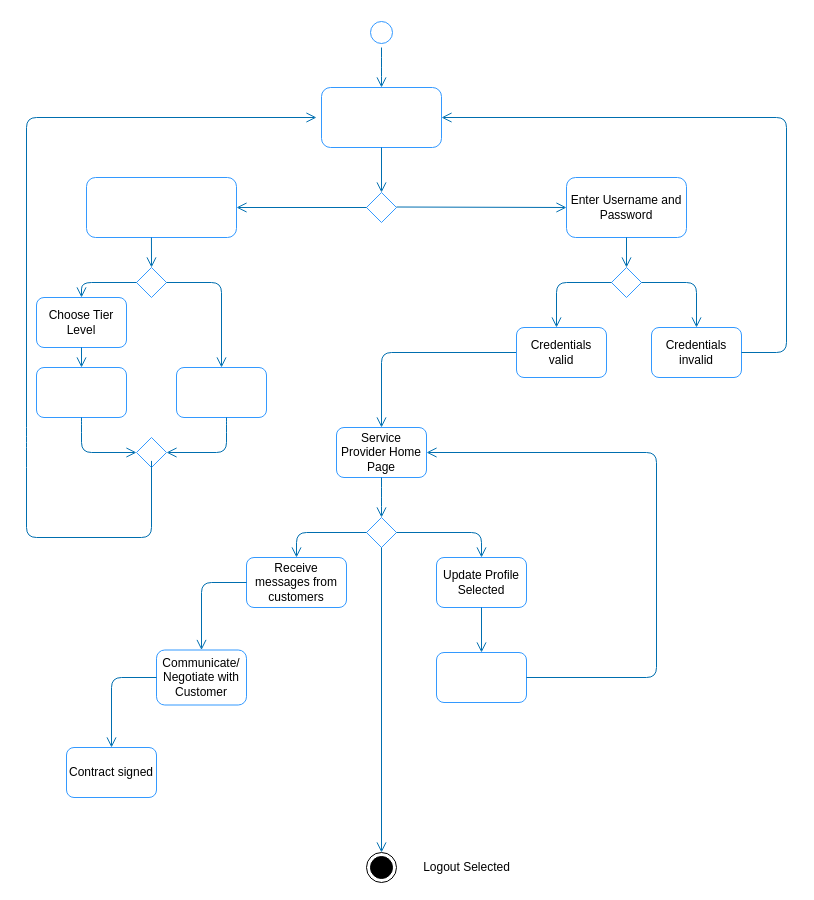
The diagram is 814 pixels wide and 900 high, and some of its shapes have lost their labels. Here are the shapes that lost their labels. From the top down, the centre of each, then its label:
At point (381, 117): "Ask to LogIn or Create New Account".
At point (161, 207): "Enter User Info for New Account/Ask Admin to help create account".
At point (81, 392): "Create Account".
At point (221, 392): "Reject Account".
At point (481, 677): "Provide updated information".
